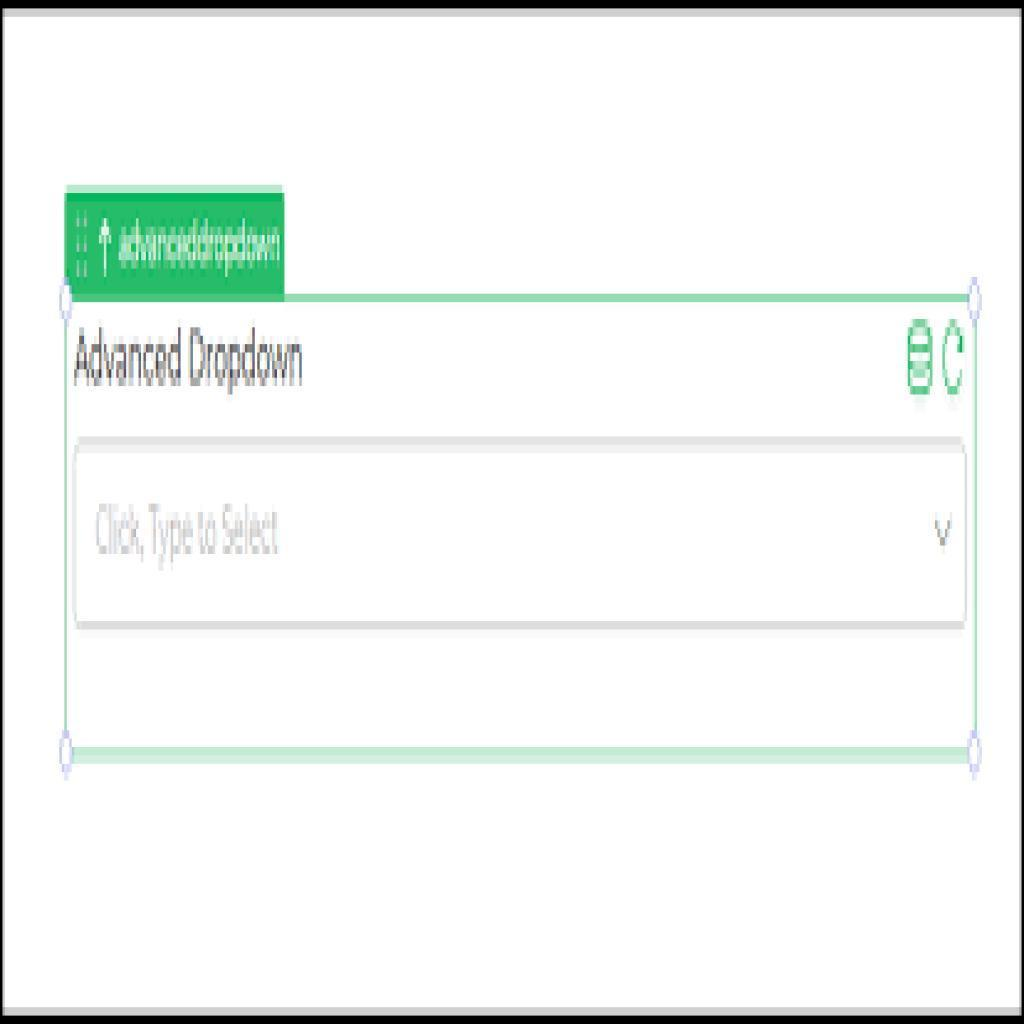dropdown: (72, 439, 970, 630)
icon: (902, 318, 938, 403), (941, 312, 968, 401)
